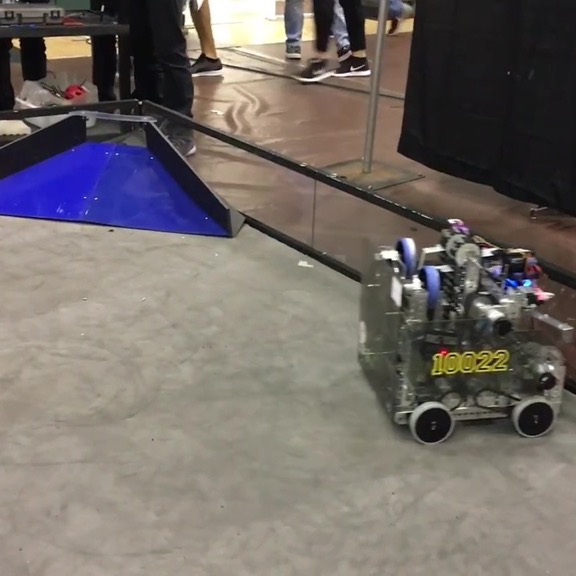robot: (354, 213, 572, 446)
